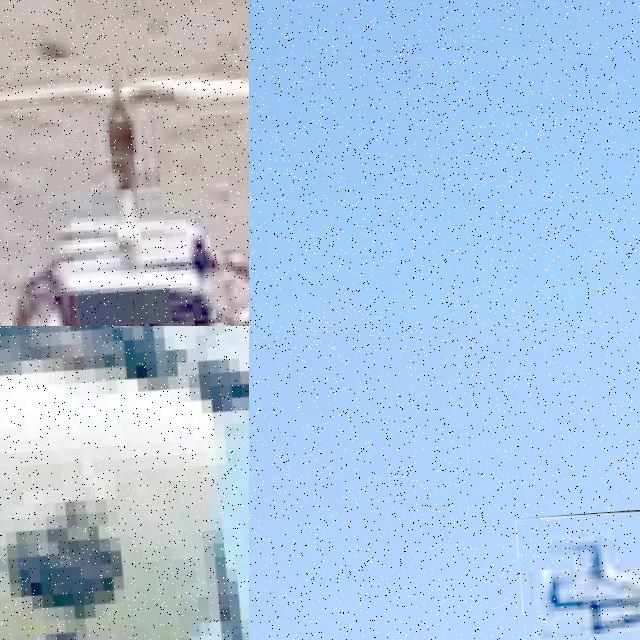drone: (0, 0, 249, 326), (0, 326, 249, 640), (515, 502, 640, 640)
